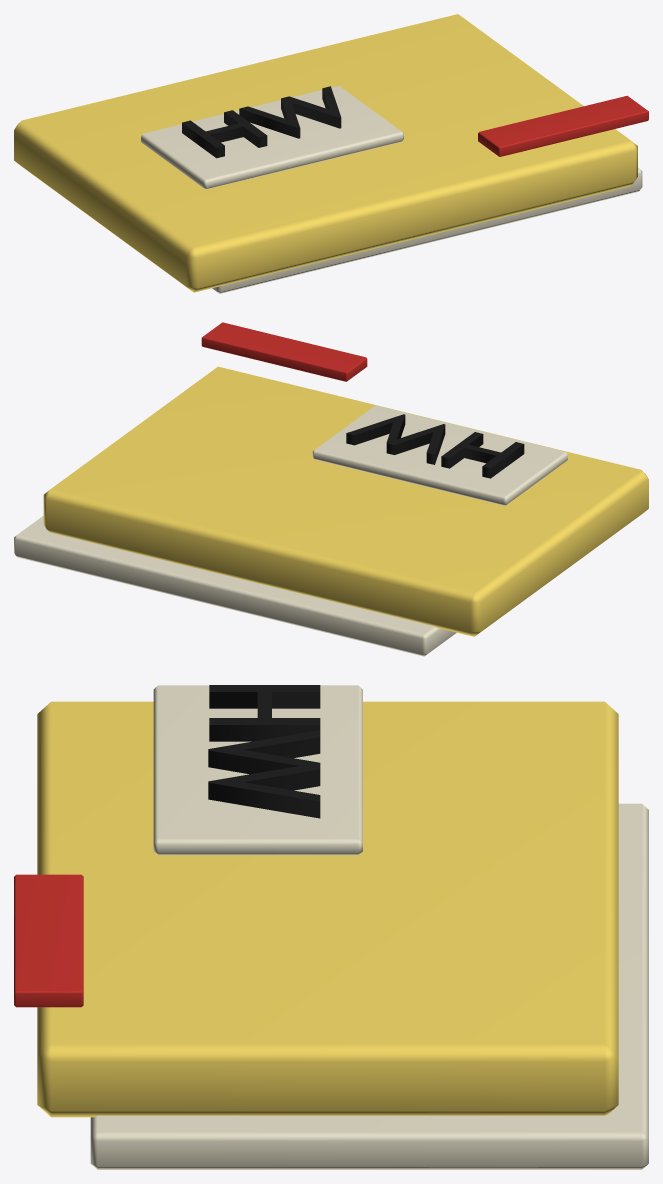
The model's file is ASV2_Missing_Homework_Notebook.fbx.
3 views of the same model, one above another, from view 1: azimuth 30°, elevation 25°; view 2: azimuth 150°, elevation 25°; view 3: azimuth 270°, elevation 25° (orthographic). The views are drawn at different scales.
Parts seen in each view (by area): view 1: notebook_cover, notebook_name_label, notebook_overdue_stamp, notebook_text, notebook_pages; view 2: notebook_cover, notebook_pages, notebook_name_label, notebook_overdue_stamp, notebook_text; view 3: notebook_cover, notebook_pages, notebook_name_label, notebook_text, notebook_overdue_stamp.
Part boxes in pixels (x1,y1,x2,y2): notebook_cover: (14,14,637,292); notebook_name_label: (141,86,403,189); notebook_overdue_stamp: (478,95,648,156); notebook_text: (182,86,341,158); notebook_pages: (212,168,642,293); notebook_cover: (43,366,648,636); notebook_pages: (14,516,456,656); notebook_name_label: (312,405,567,505); notebook_overdue_stamp: (201,322,367,381); notebook_text: (346,414,524,478); notebook_cover: (37,701,618,1117); notebook_pages: (90,803,648,1169); notebook_name_label: (153,685,362,855); notebook_text: (208,685,320,818); notebook_overdue_stamp: (14,874,83,1007).
Size of the model in its own units: 37.5 by 8.6 by 27.3.
